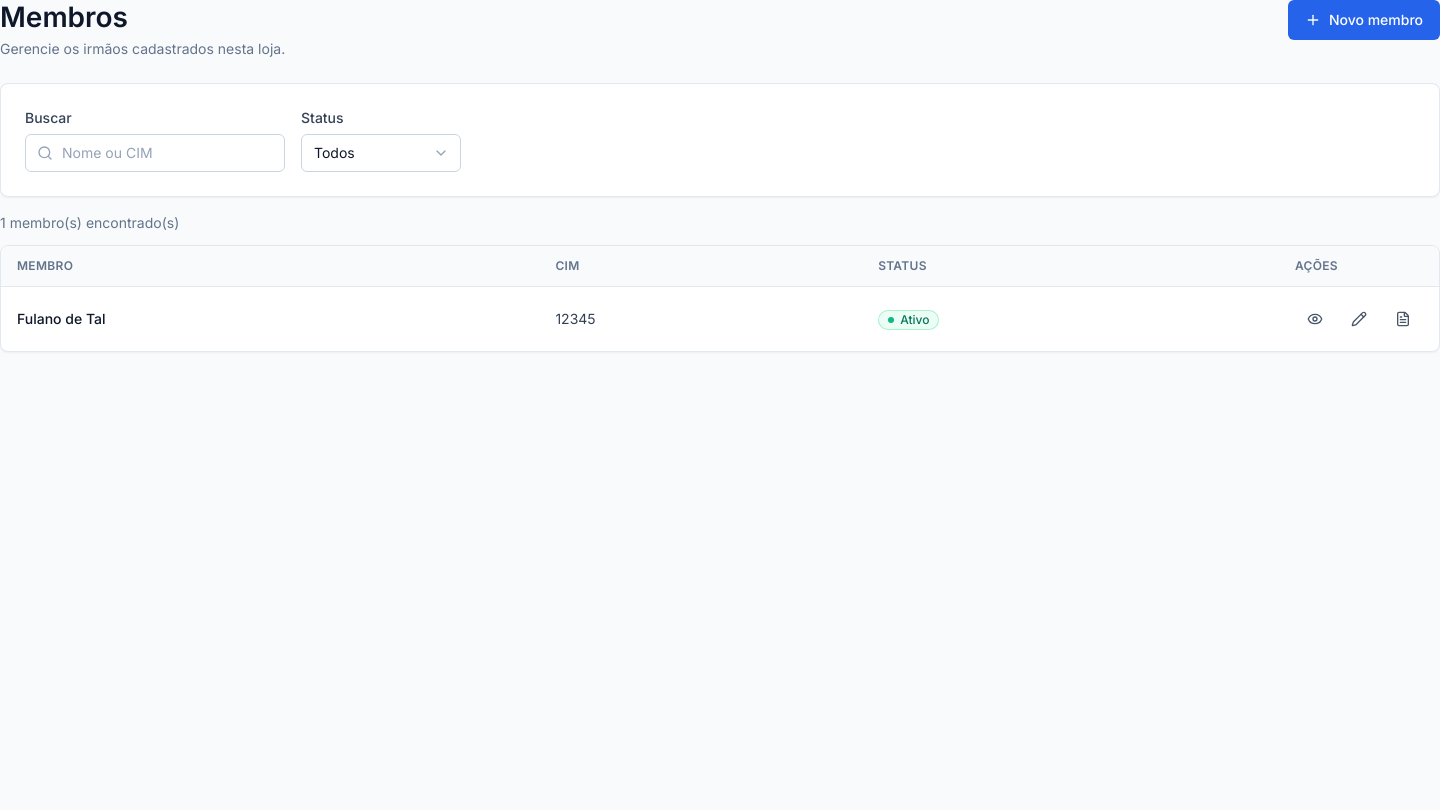
MembrosListPage › inativa um membro ativo ao confirmar no ConfirmDialog aberto pelo status
The width and height of the screenshot is (1440, 810).
Expected: the link "Fulano de Tal" is shown, x1=17 y1=310 x2=106 y2=327
Click the button with aria-label "Desativar Fulano de Tal" at (909, 319), box x1=878 y1=308 x2=940 y2=330
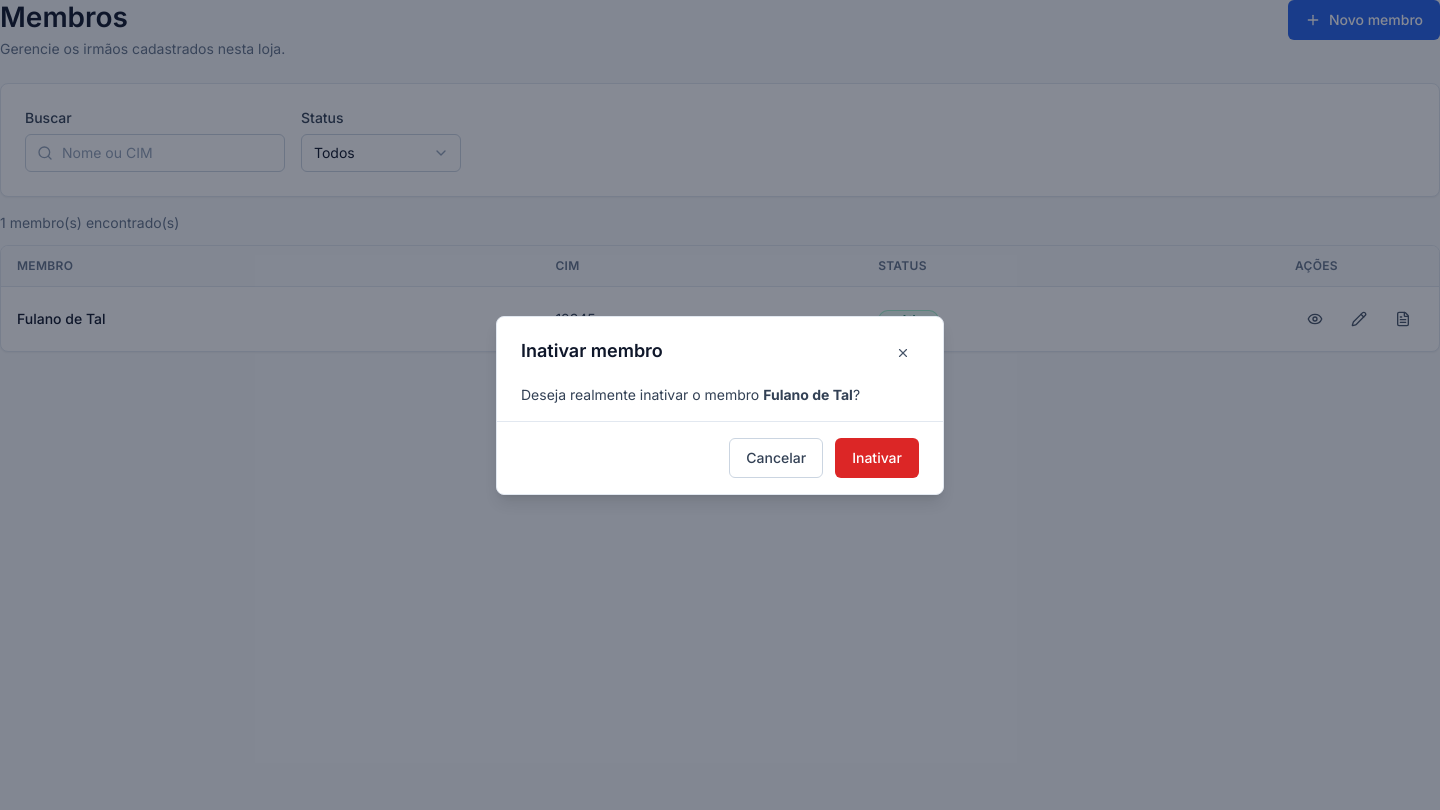
Click the button "Inativar" at (877, 458), box x1=835 y1=438 x2=919 y2=478
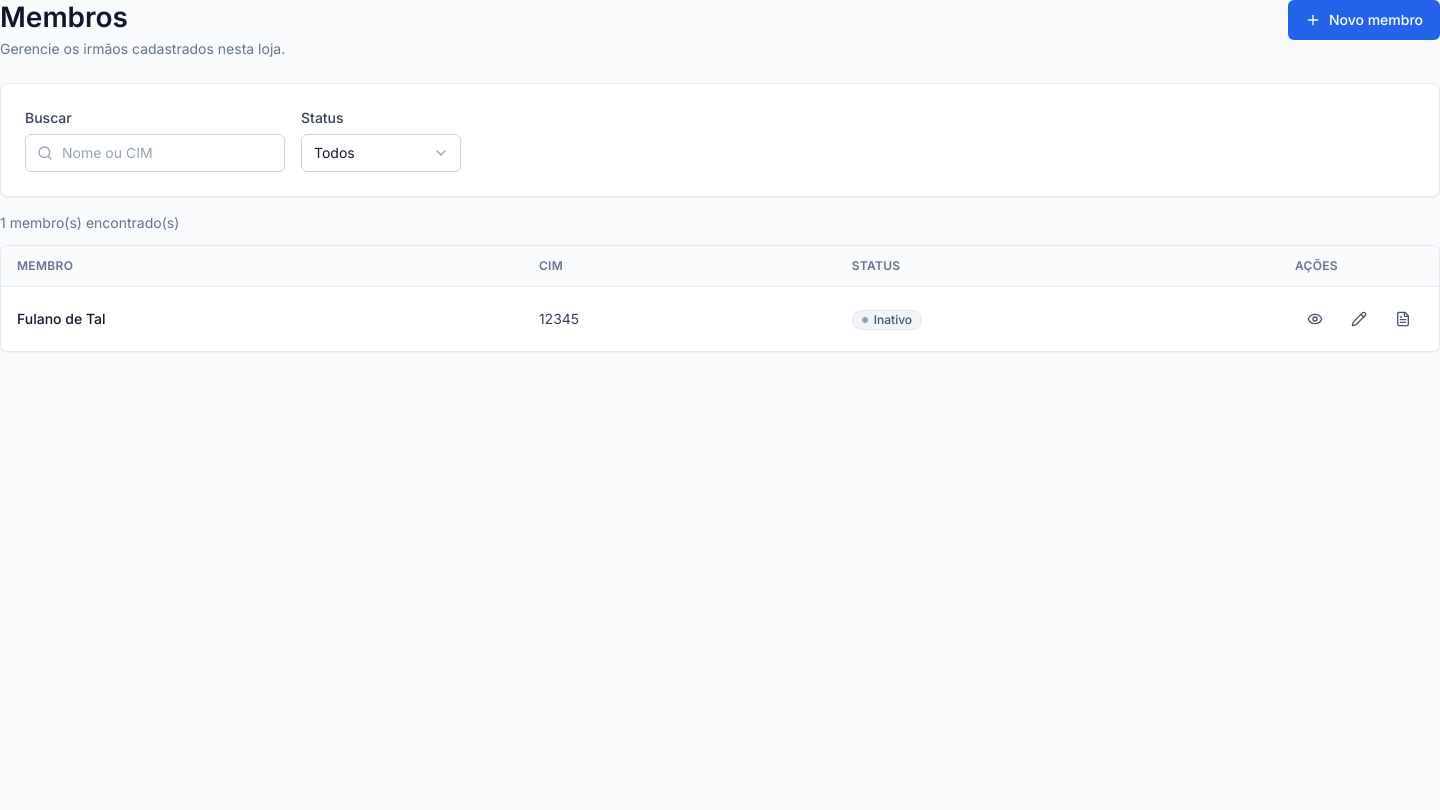
Expected: the button with aria-label "Ativar Fulano de Tal" is shown, x1=852 y1=308 x2=922 y2=330
Result: the dialog is gone
Result: the text "Inativo" is shown at x1=852 y1=310 x2=922 y2=330
